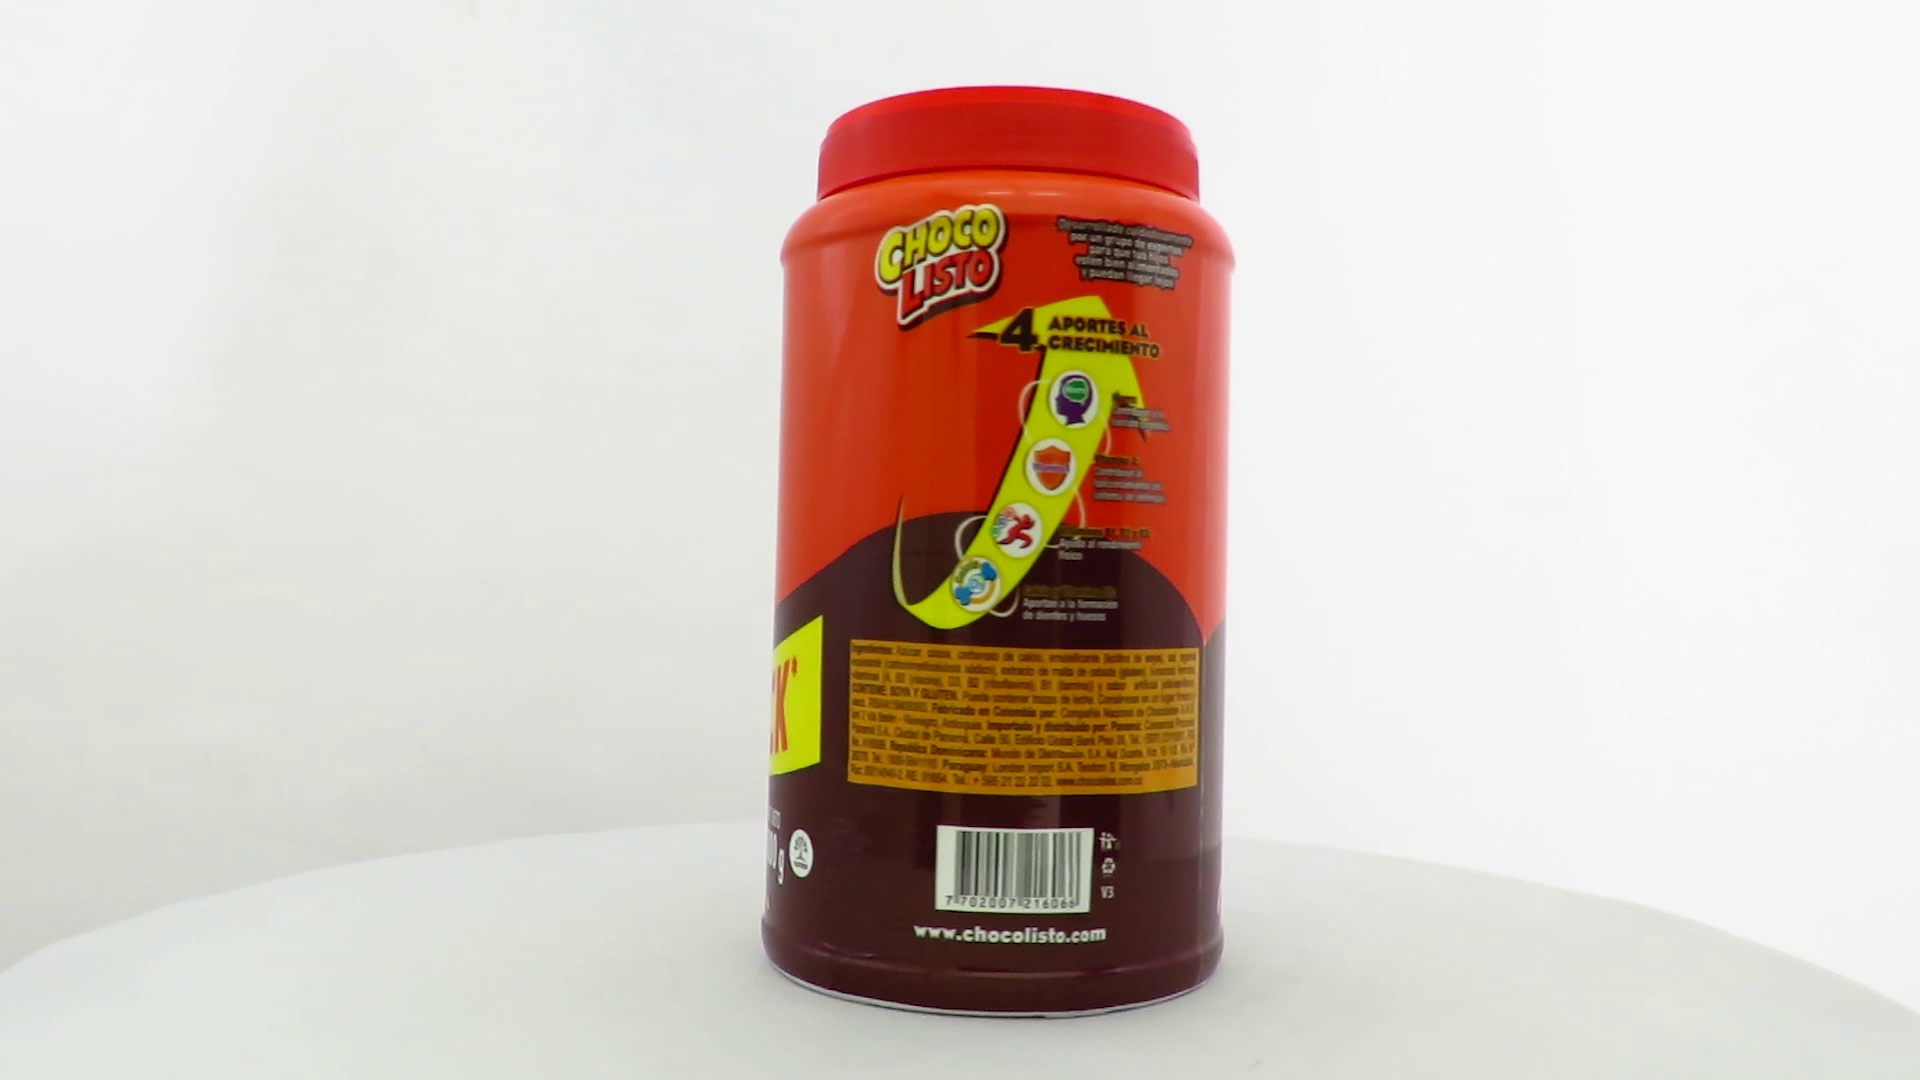COL0170103TRR00100: (756, 80, 1242, 1026)
